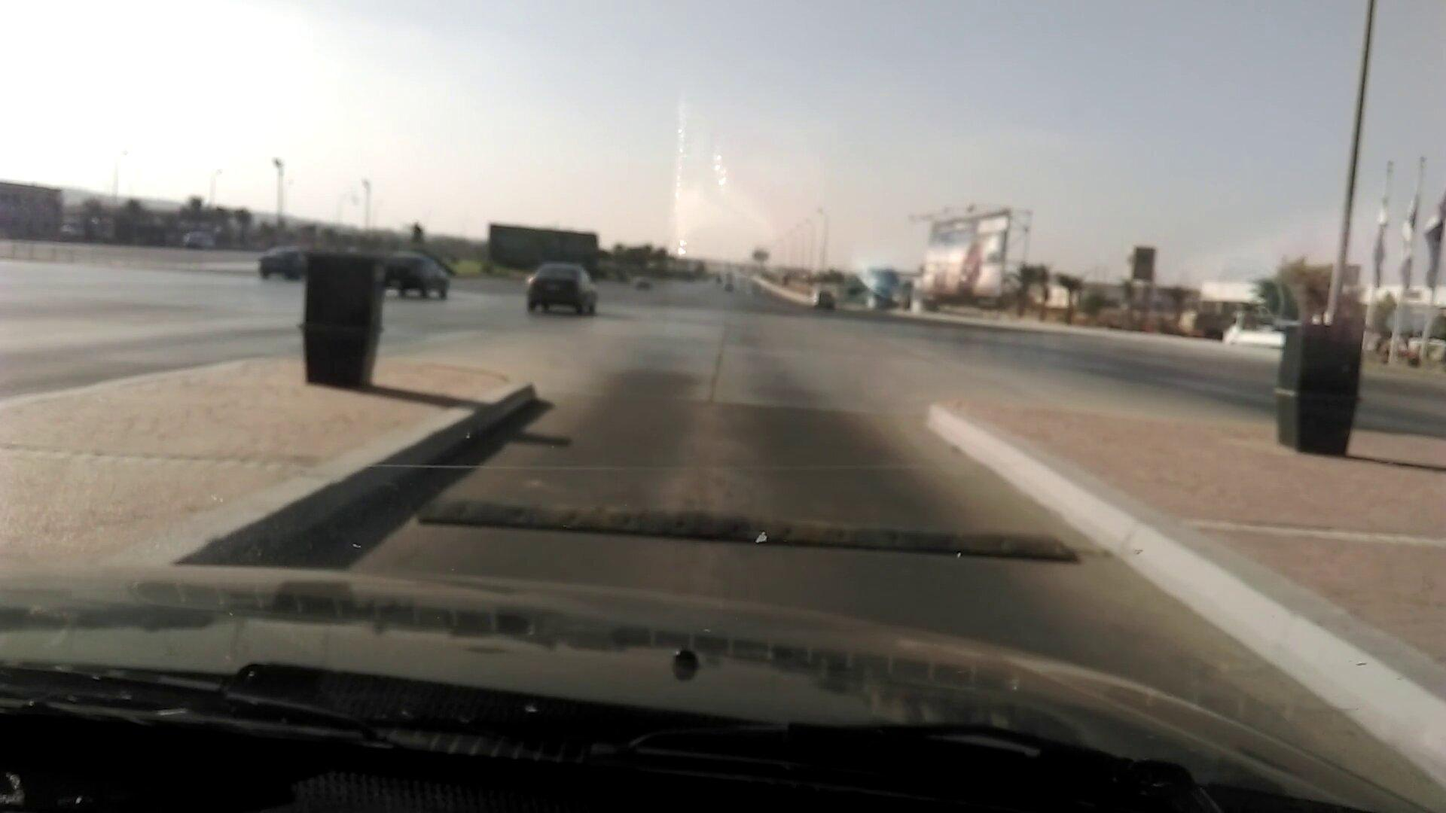Bump: (427, 486, 1064, 565)
